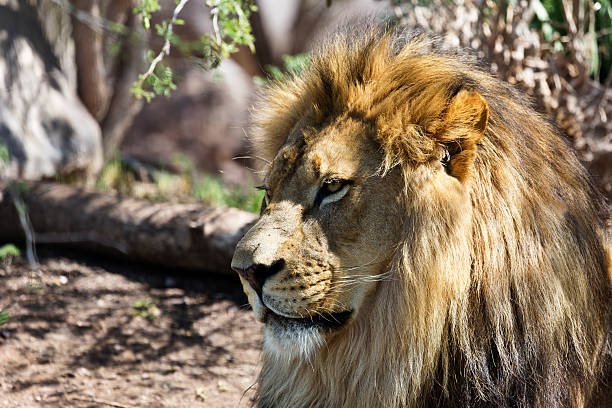lion: (212, 17, 598, 408)
